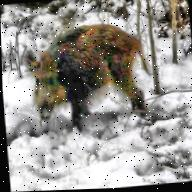boar: (14, 13, 157, 131)
